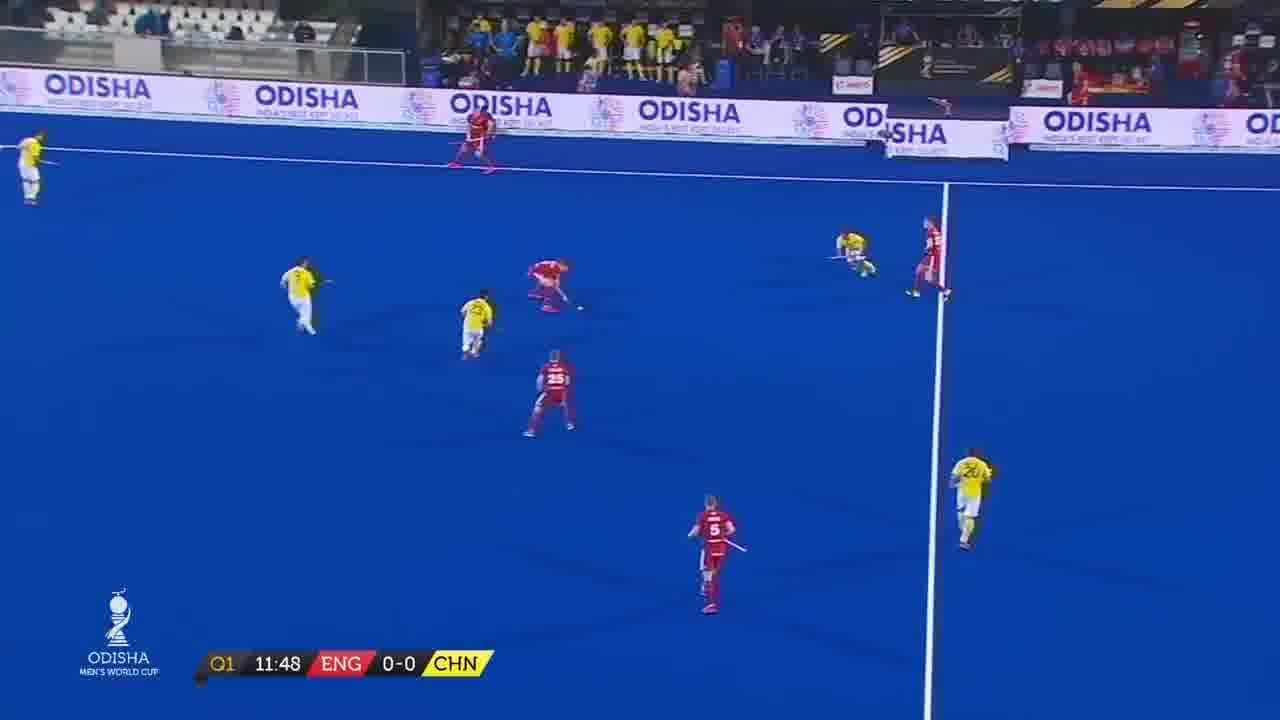ball: (570, 298, 590, 322)
